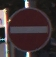No entry: (6, 6, 50, 51)
